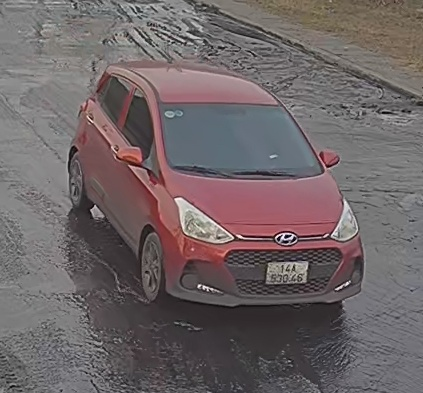vehicle plate: (260, 257, 314, 286)
